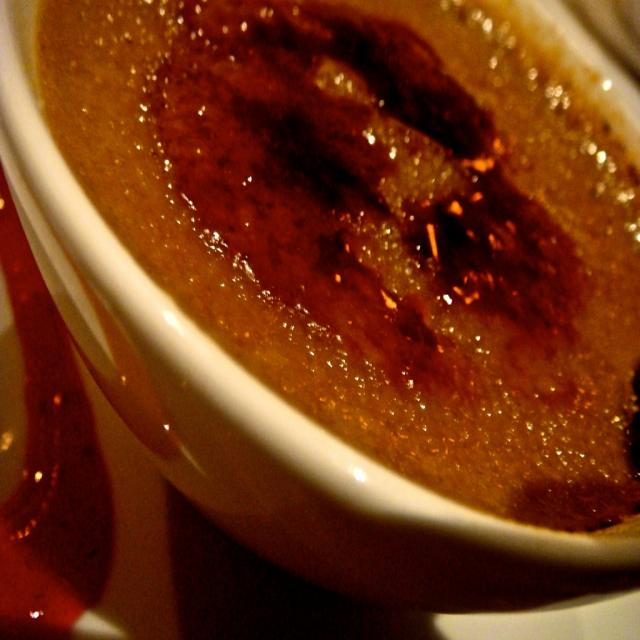Coffee: (25, 0, 640, 612)
